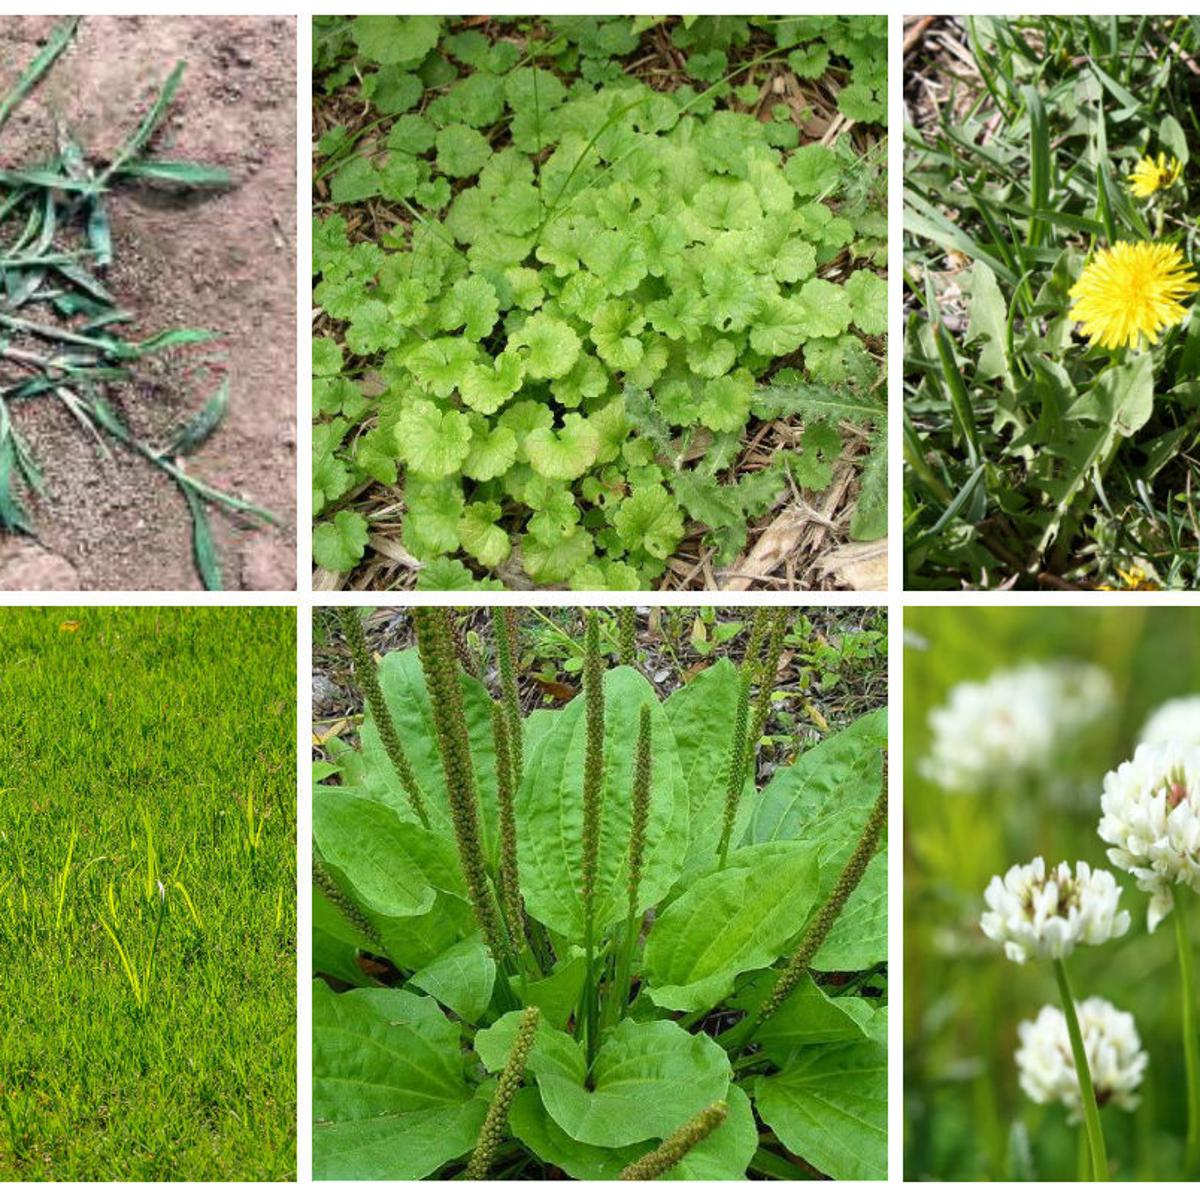crabgrass: (4, 32, 264, 592)
